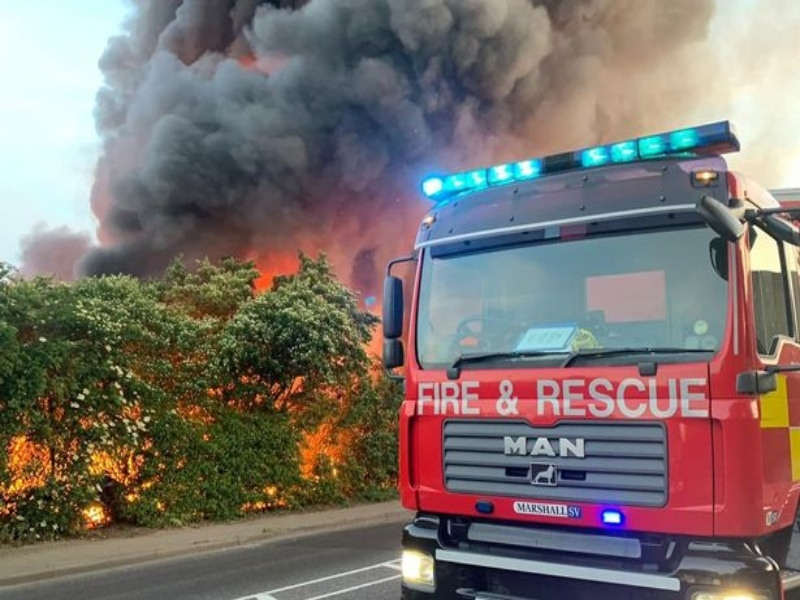smoke: (98, 1, 560, 260)
